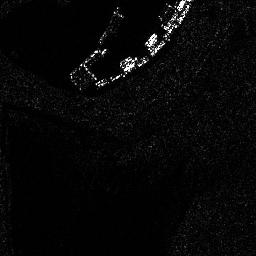ship: (144, 31, 157, 50)
